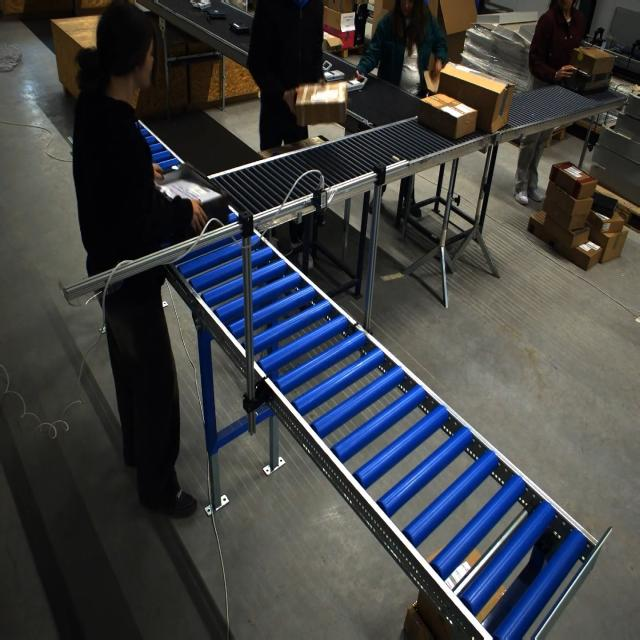box: (437, 62, 515, 135), (417, 92, 476, 141), (156, 171, 224, 209), (295, 82, 339, 126), (564, 67, 612, 95)
product: (346, 76, 367, 92), (326, 69, 346, 81), (229, 22, 250, 33), (191, 0, 211, 10), (206, 10, 226, 20), (322, 60, 332, 71)
